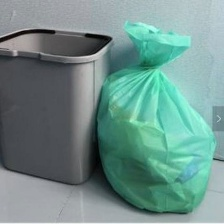plastic_bag: (87, 16, 224, 219)
